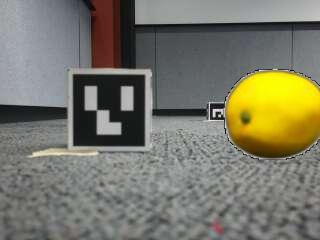lemon: (227, 73, 320, 158)
